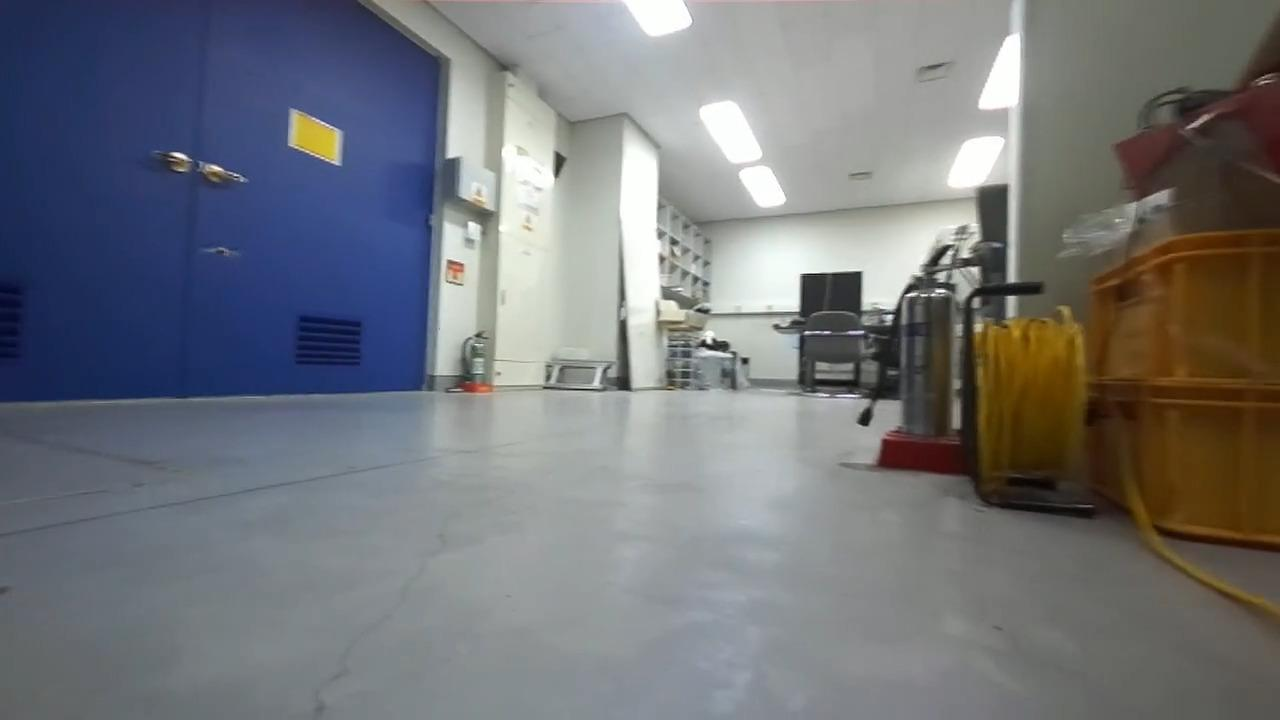crazyflie: (194, 240, 242, 264)
